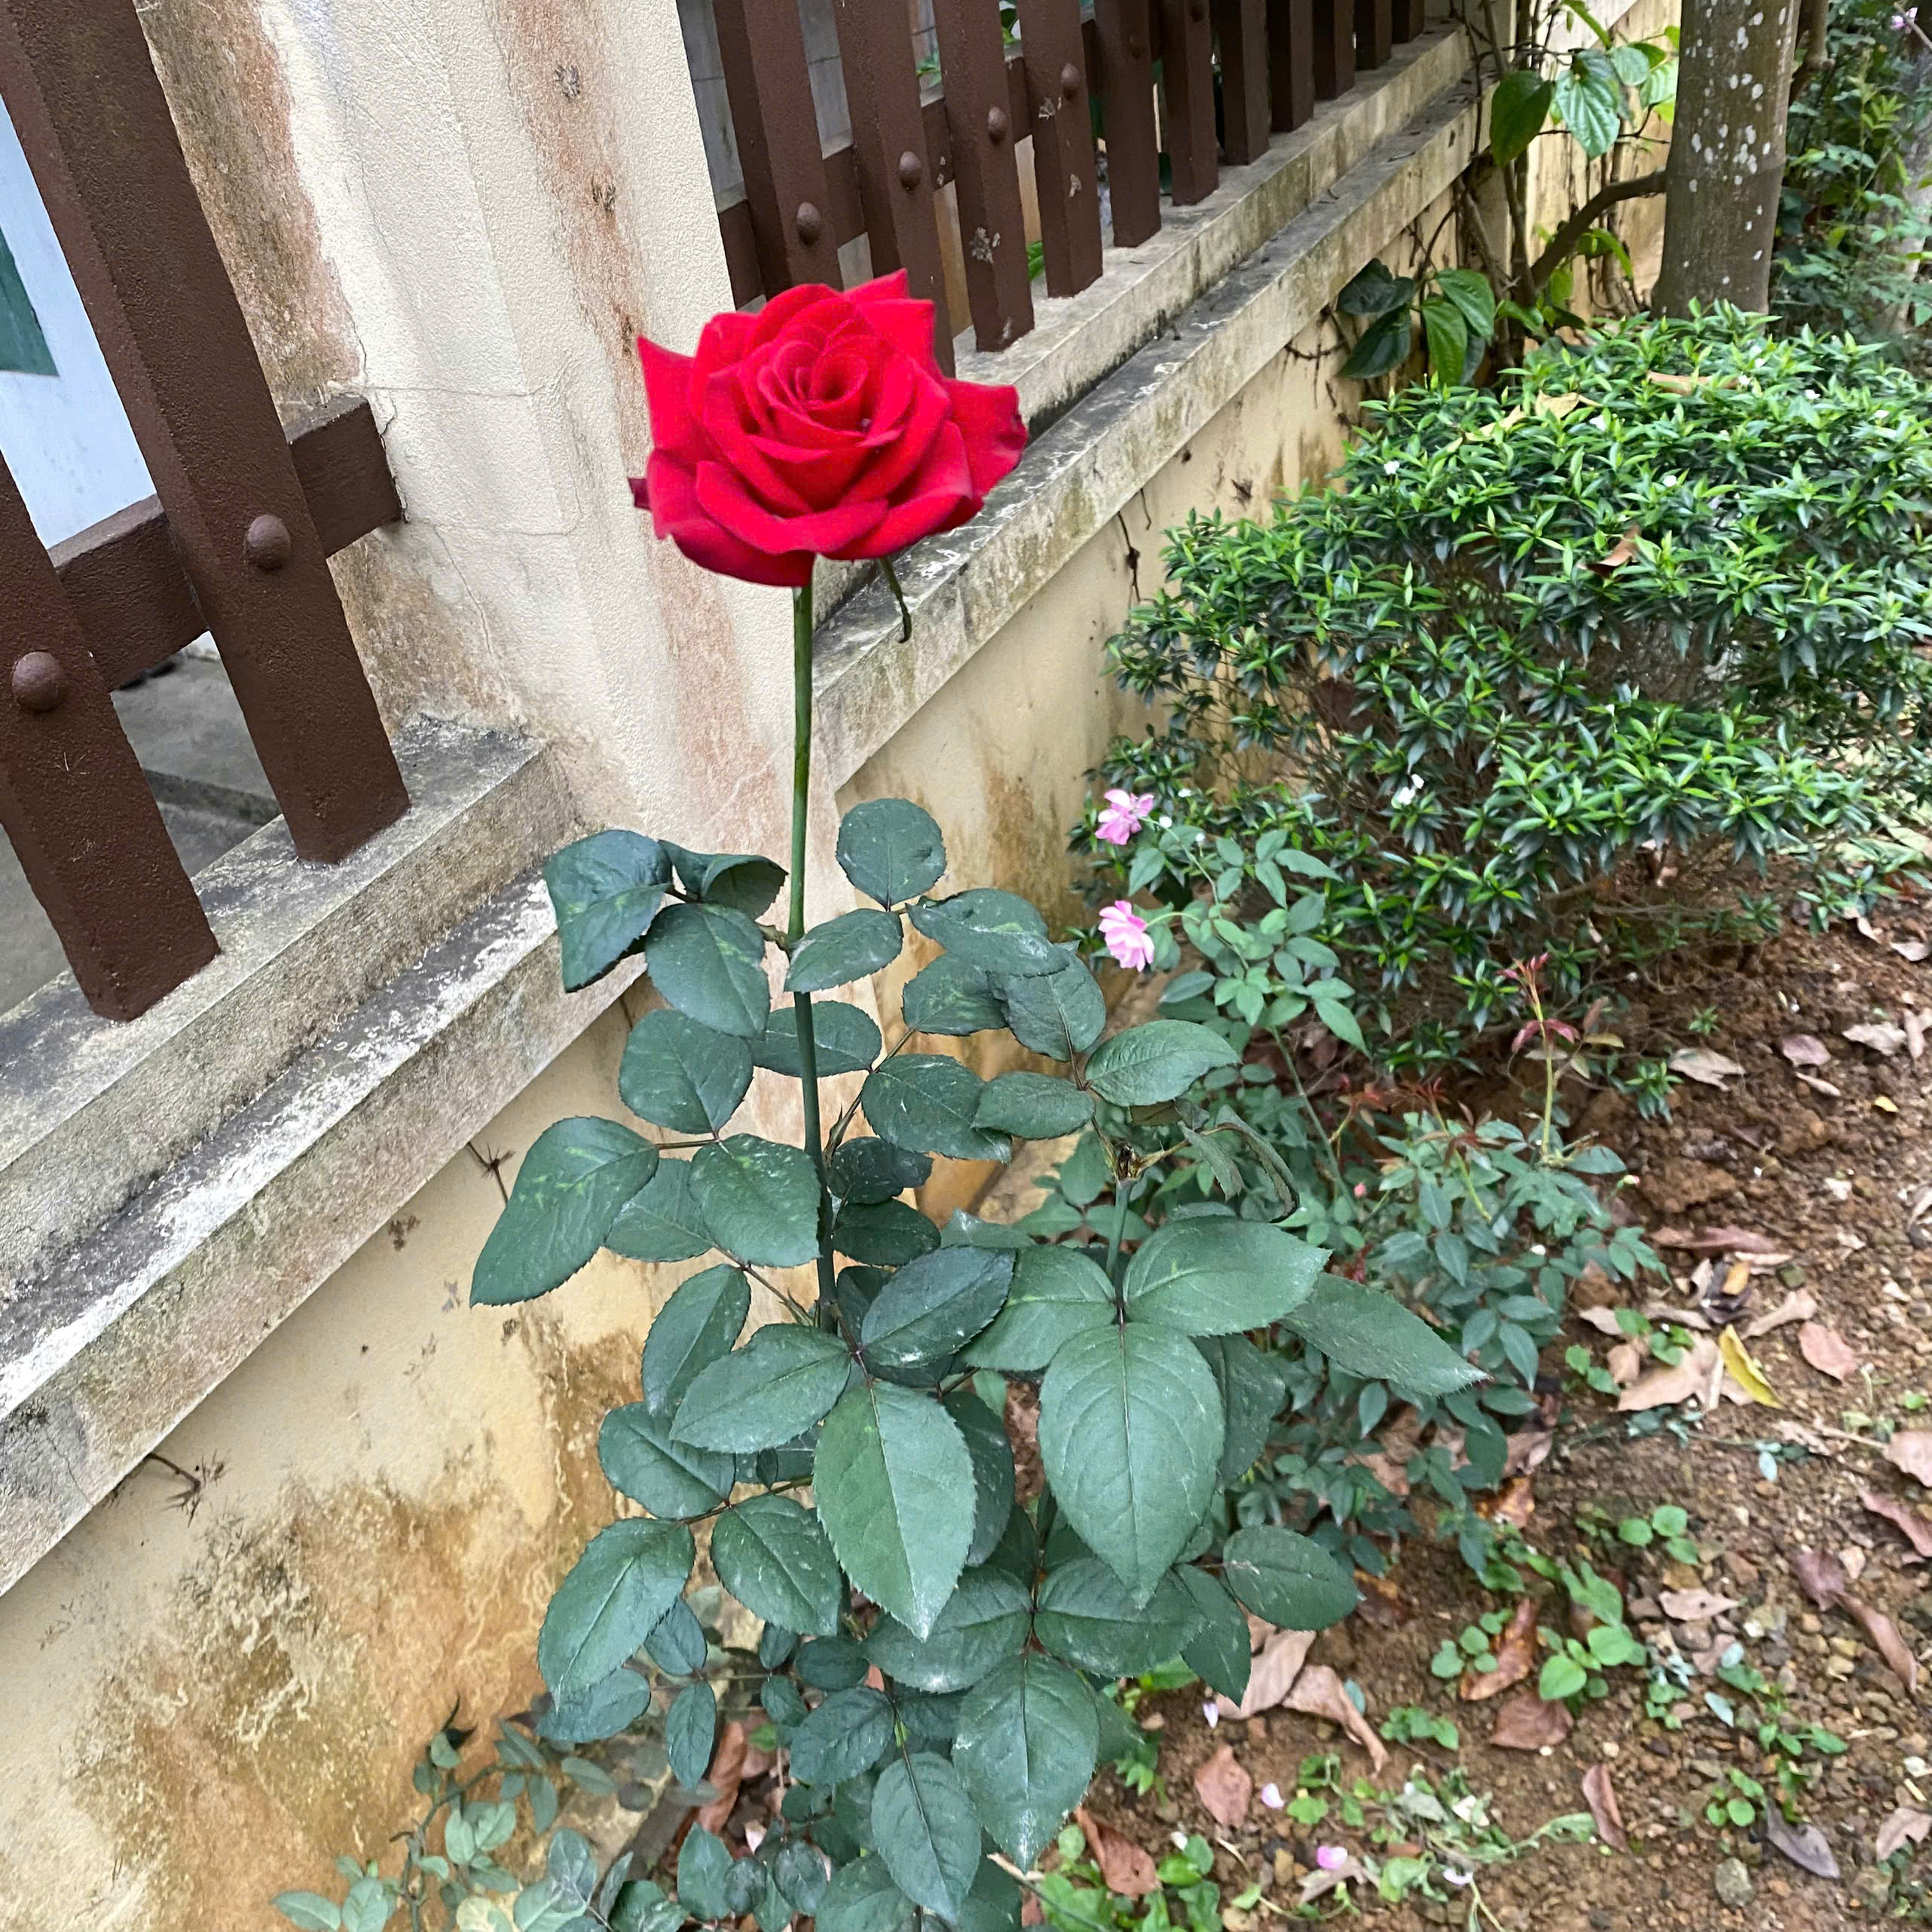hoa_hong_do: (439, 239, 1389, 1921)
